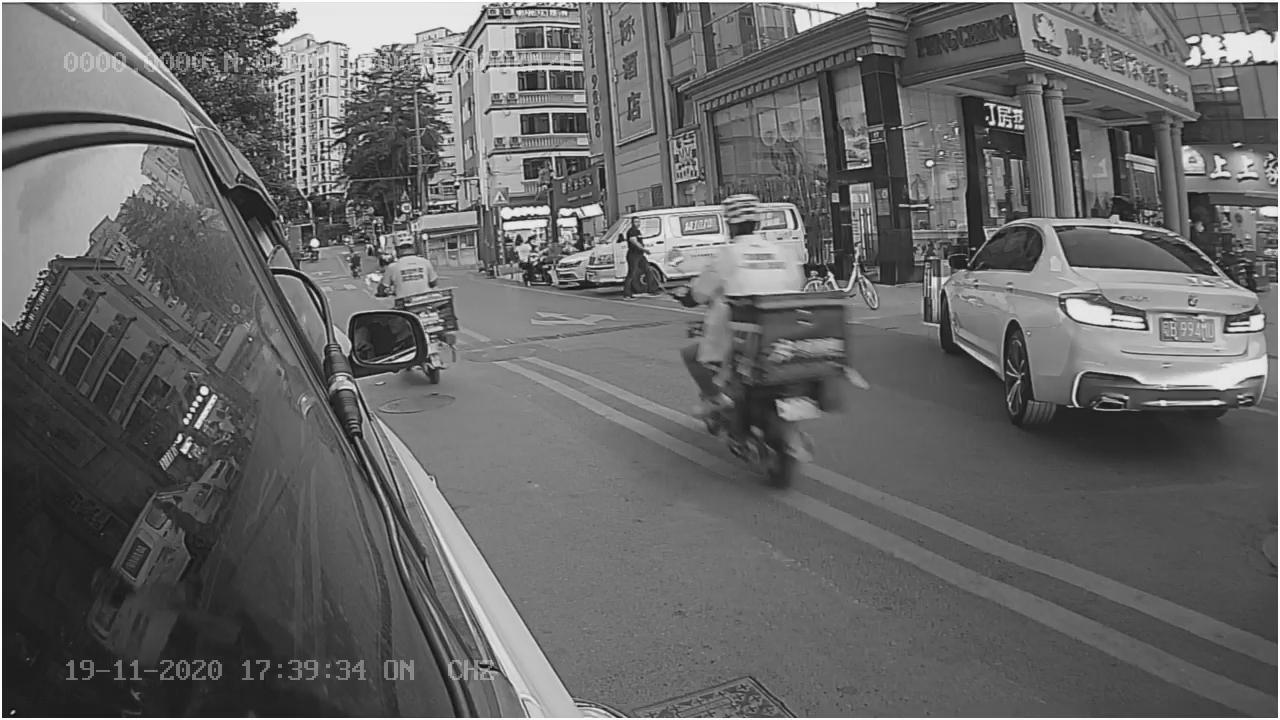person: (699, 199, 793, 316)
